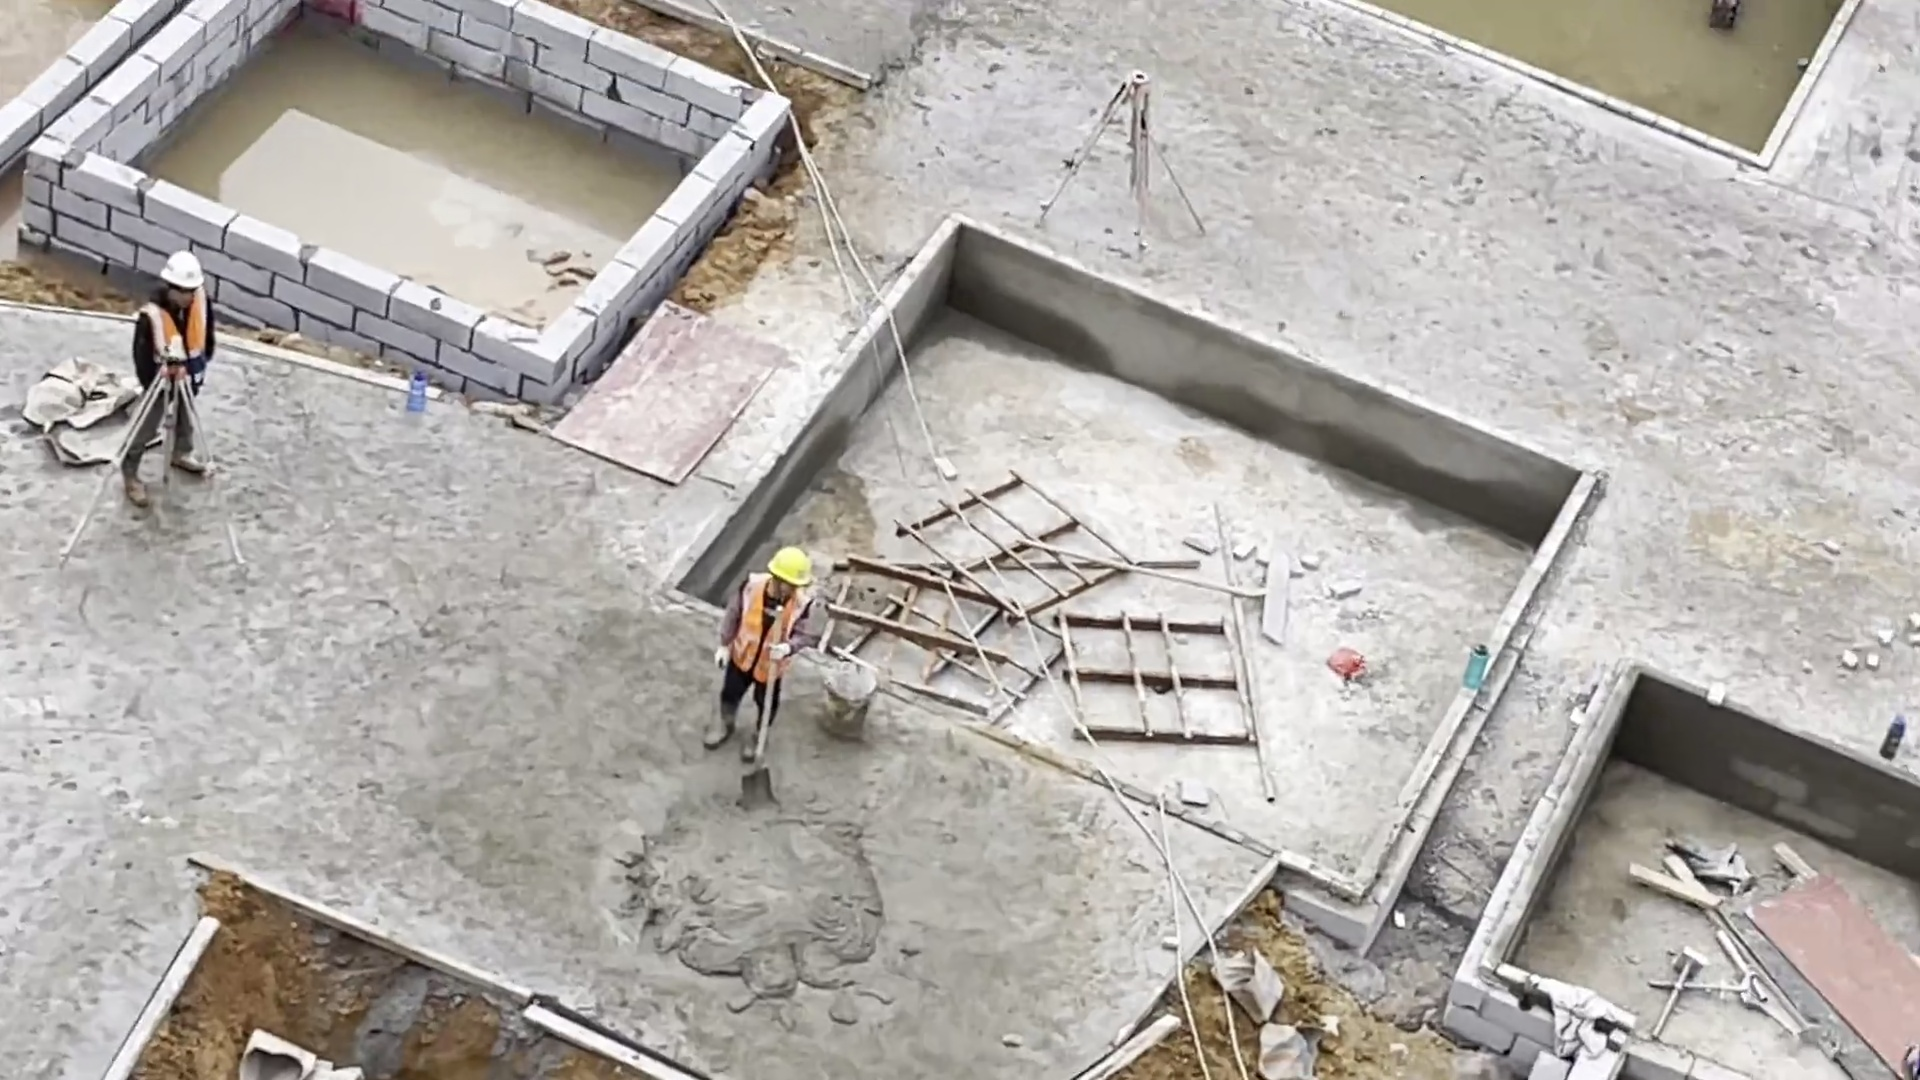helmet: (767, 545, 811, 590), (160, 250, 204, 291)
person: (111, 245, 224, 510), (708, 545, 813, 763)
vest: (738, 576, 808, 688), (139, 291, 208, 387)
